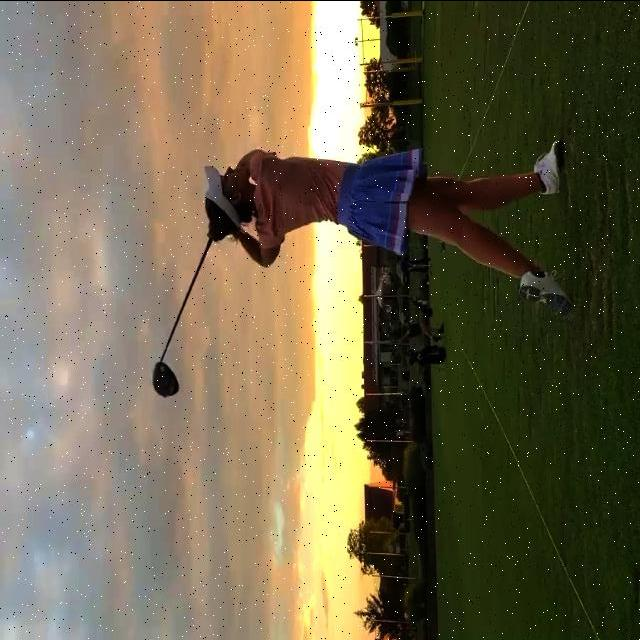golf club-handle: (151, 238, 212, 401)
golf club-head: (152, 357, 179, 396)
